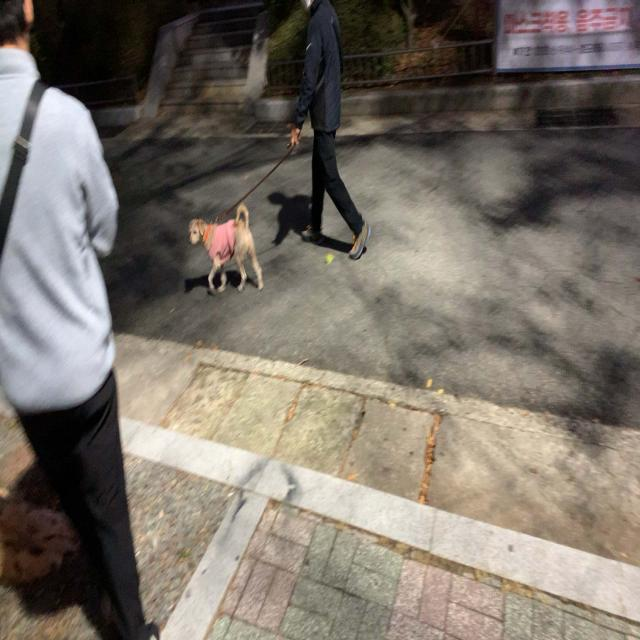Leashed_Dog: (190, 111, 327, 292)
